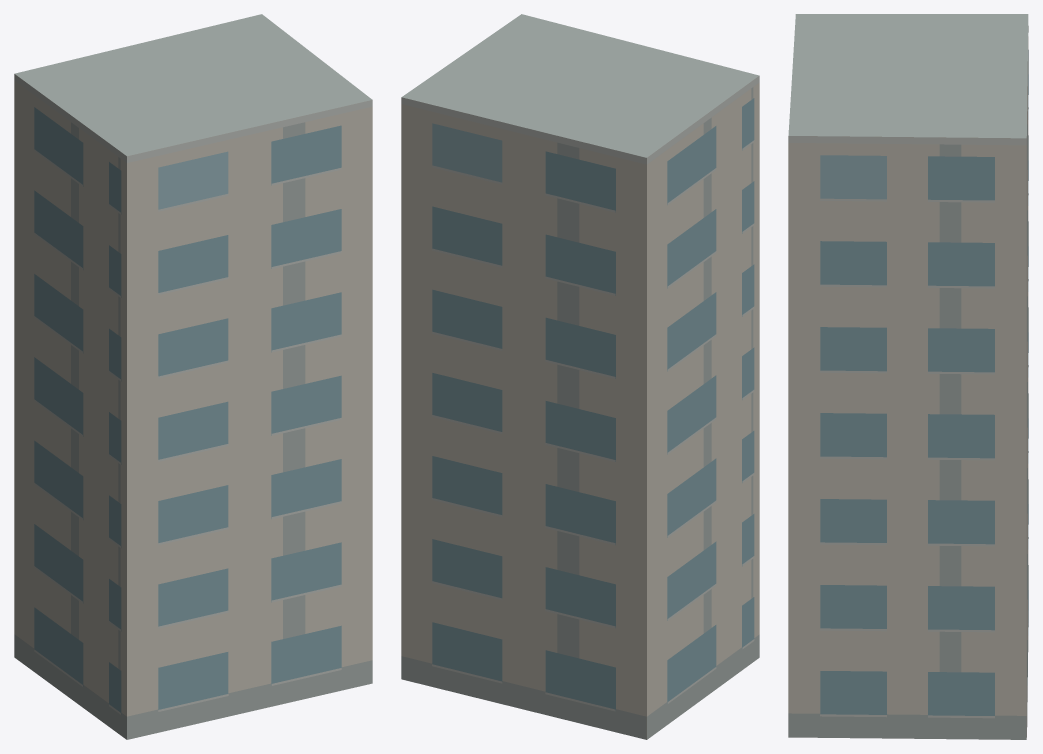
Rendered from survey-upis-32577399.glb.
The picture shows the model from 3 angles, left to right: view 1: azimuth 30°, elevation 25°; view 2: azimuth 150°, elevation 25°; view 3: azimuth 270°, elevation 25°; orthographic projection. The views are drawn at different scales.
Parts seen in each view (by area): view 1: survey-upis-32577399.tmp; view 2: survey-upis-32577399.tmp; view 3: survey-upis-32577399.tmp.
Boxes of the visible parts, x1,y1,x2,y2 form: survey-upis-32577399.tmp: (14,14,372,739); survey-upis-32577399.tmp: (401,14,759,739); survey-upis-32577399.tmp: (788,14,1028,739).
Bounding box in the file's own units: 9.23 × 20.8 × 7.53.
